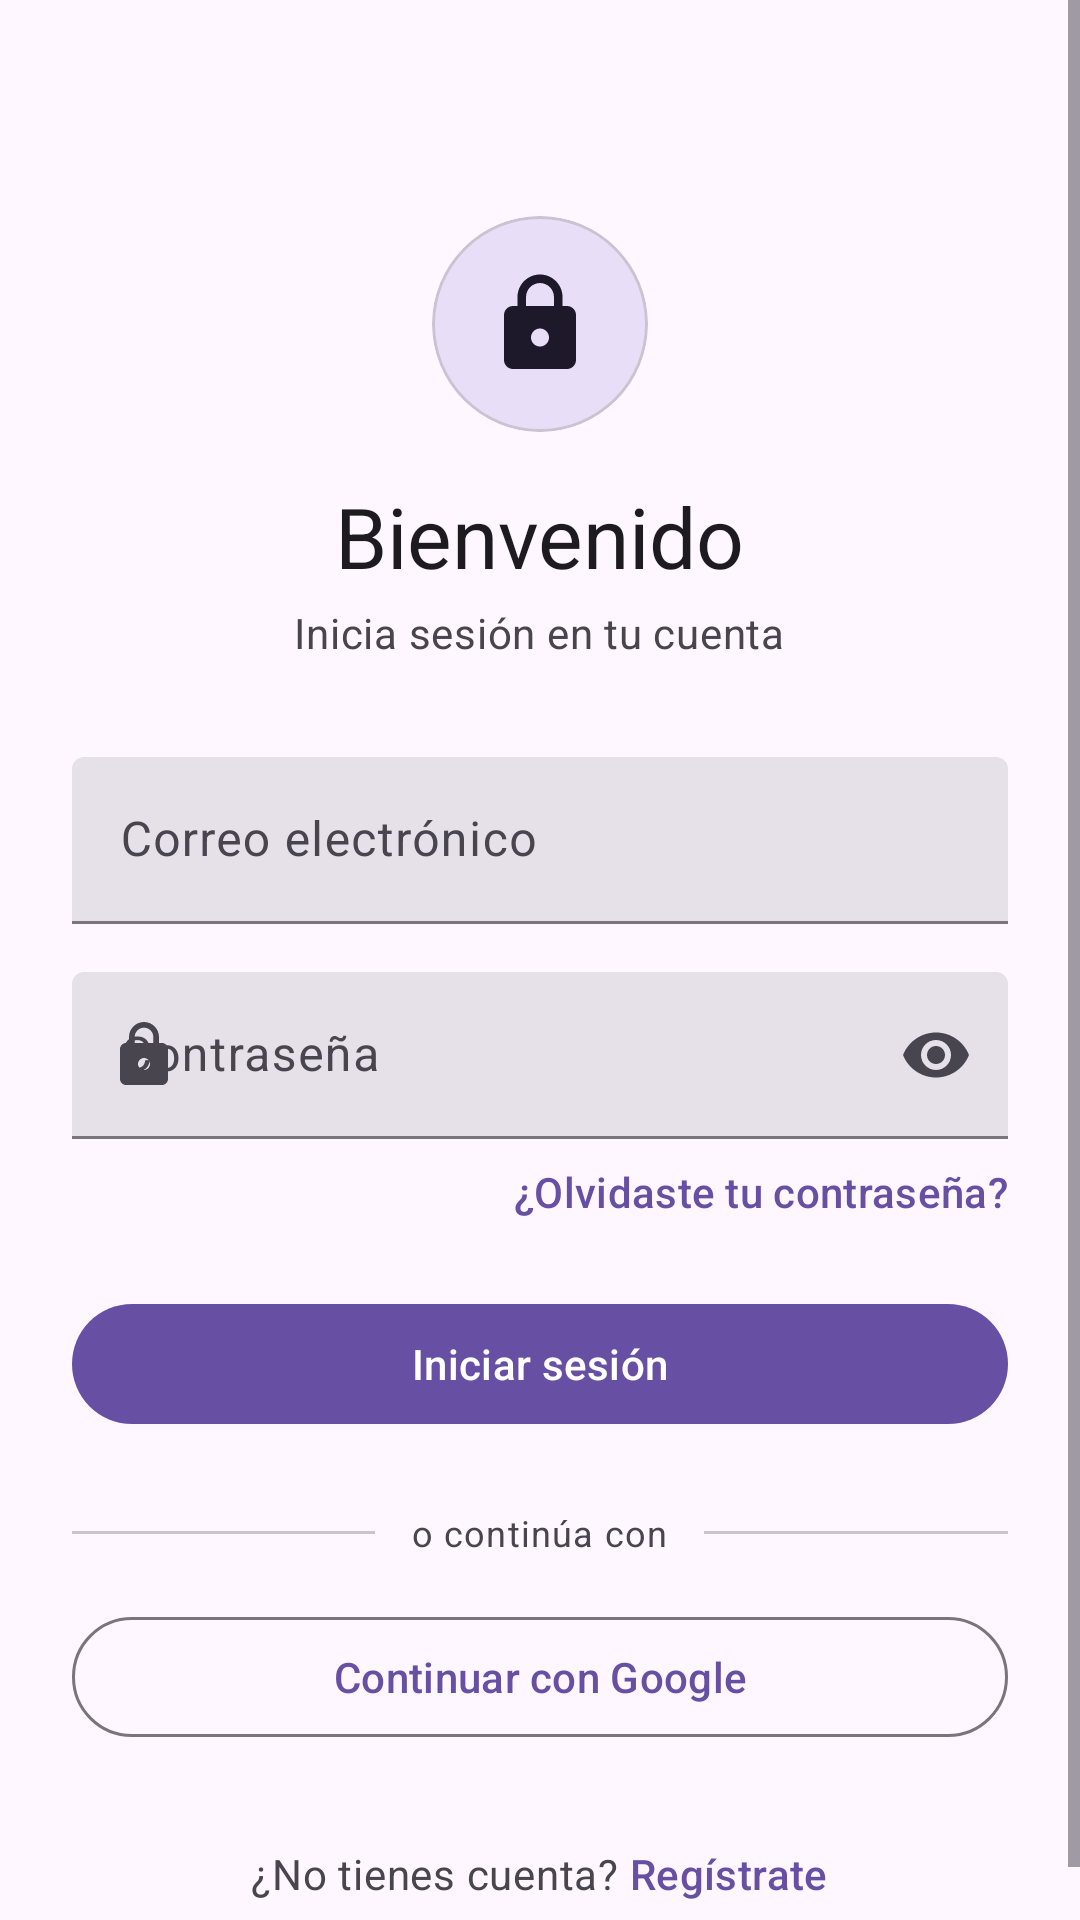

Icons on this 1080×1920 Android screen, each with the point to tap as [x,y]:
lock: [540,321]
